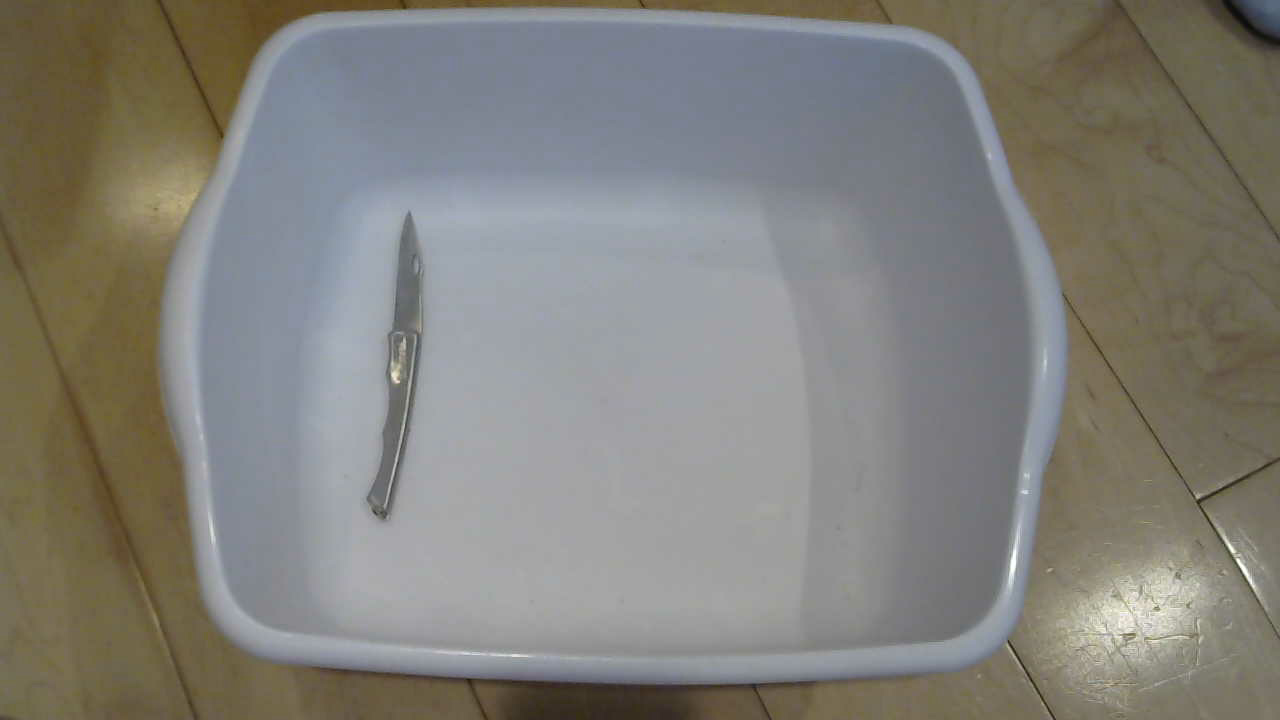knife: (344, 203, 463, 535)
